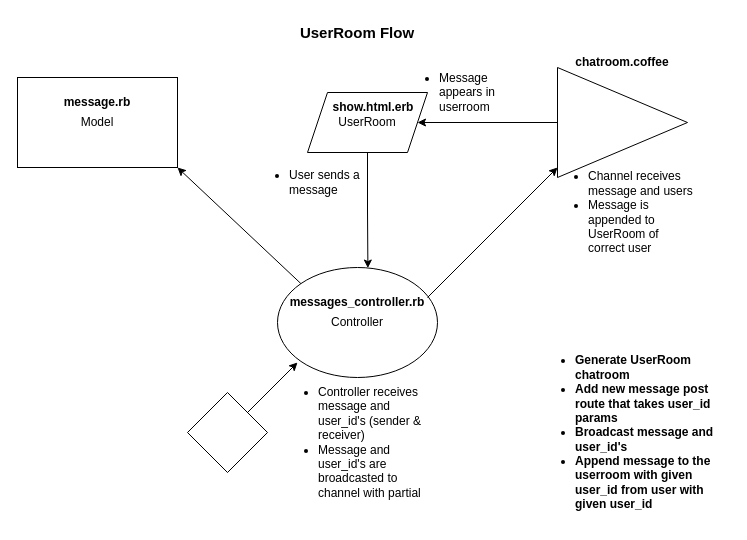
Image size: 747x540. Some labels were removed from this diagram. Here are the shapes that lost their labels. From the top down, the centre of each, then its label:
At (x=622, y=122): "View".
At (x=227, y=432): "Partial".
